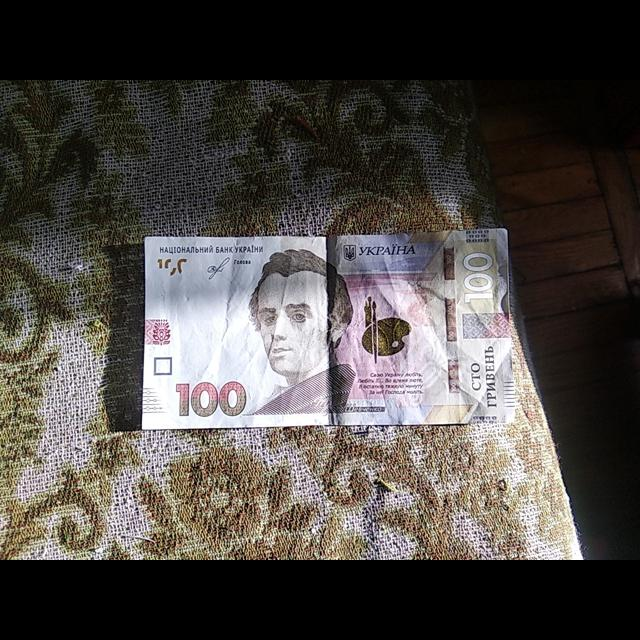100uah: (141, 229, 515, 431)
